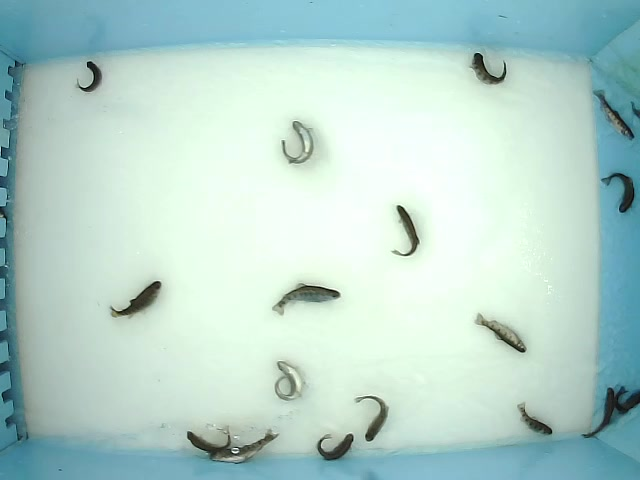fish: (589, 83, 636, 144), (271, 280, 342, 317), (209, 427, 279, 464), (107, 277, 163, 321), (473, 313, 528, 353), (463, 47, 514, 90), (581, 385, 618, 440), (390, 202, 423, 258), (353, 394, 390, 443), (600, 173, 636, 220), (280, 120, 315, 166), (273, 360, 307, 402), (516, 401, 554, 438), (186, 425, 232, 455), (314, 433, 354, 462), (74, 59, 104, 95)
